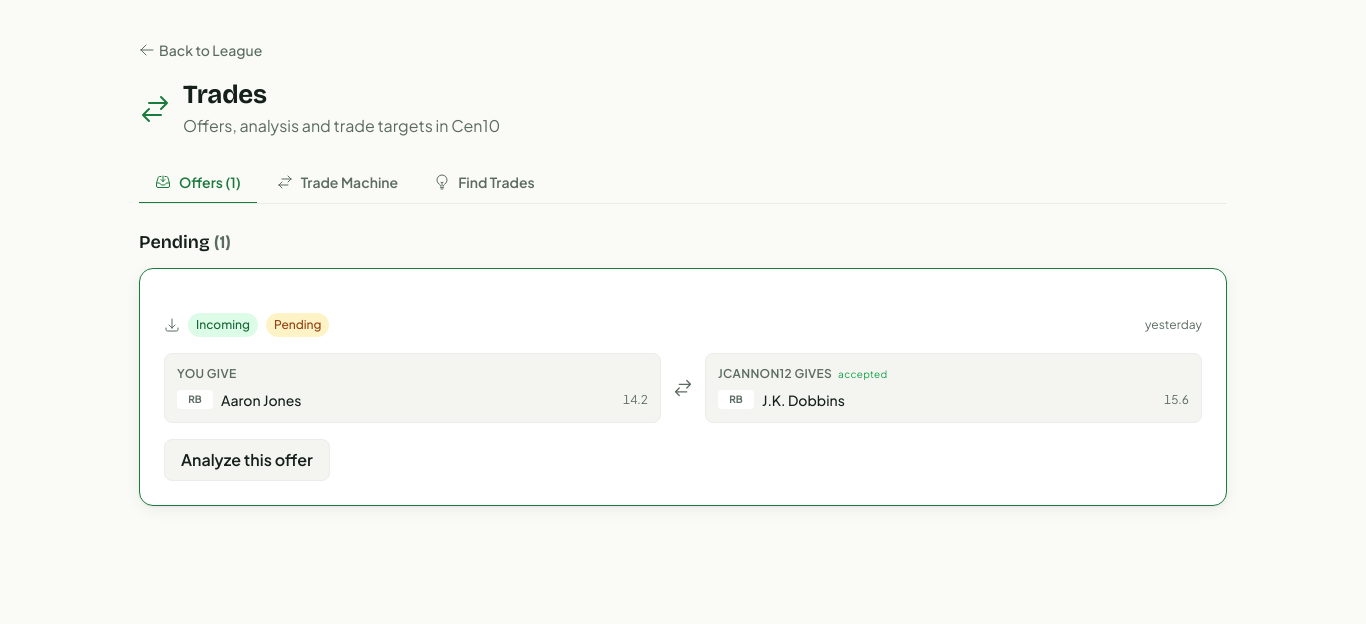
Test case: Trade machine › handles a league with no games left to simulate
Click the button "Analyze this offer": (247,460) [164, 439, 330, 481]
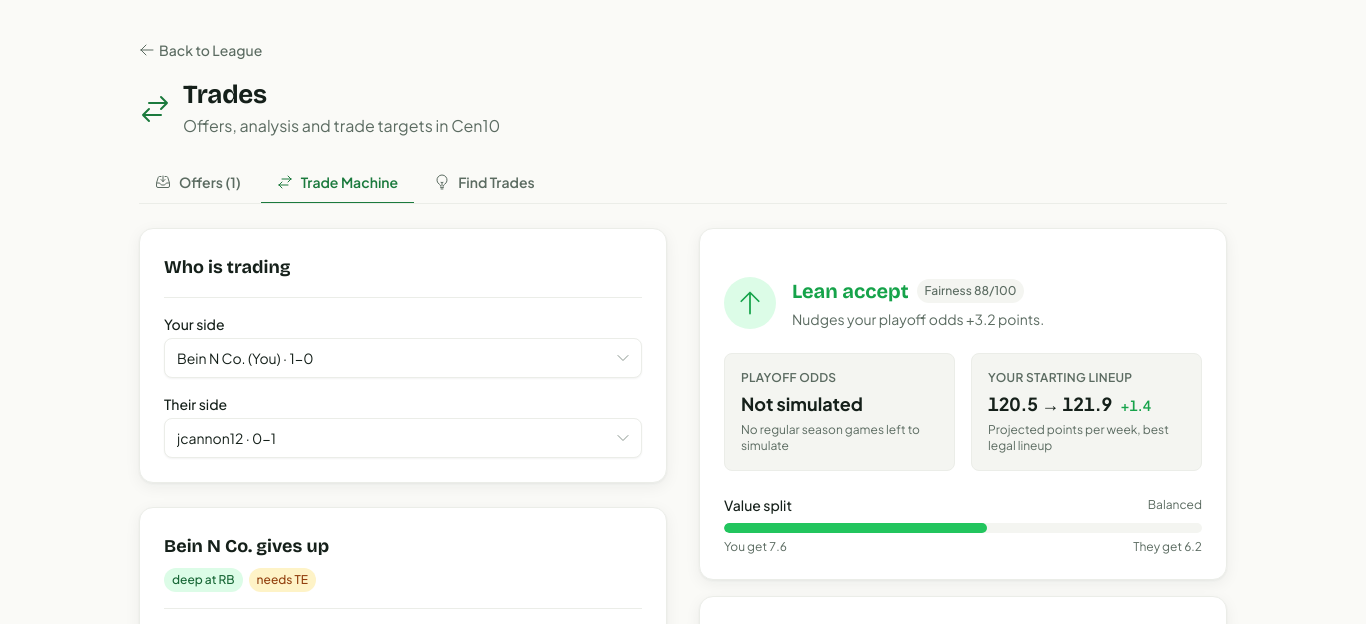
Check: the text "Not simulated" is shown, box [741, 390, 863, 418]
